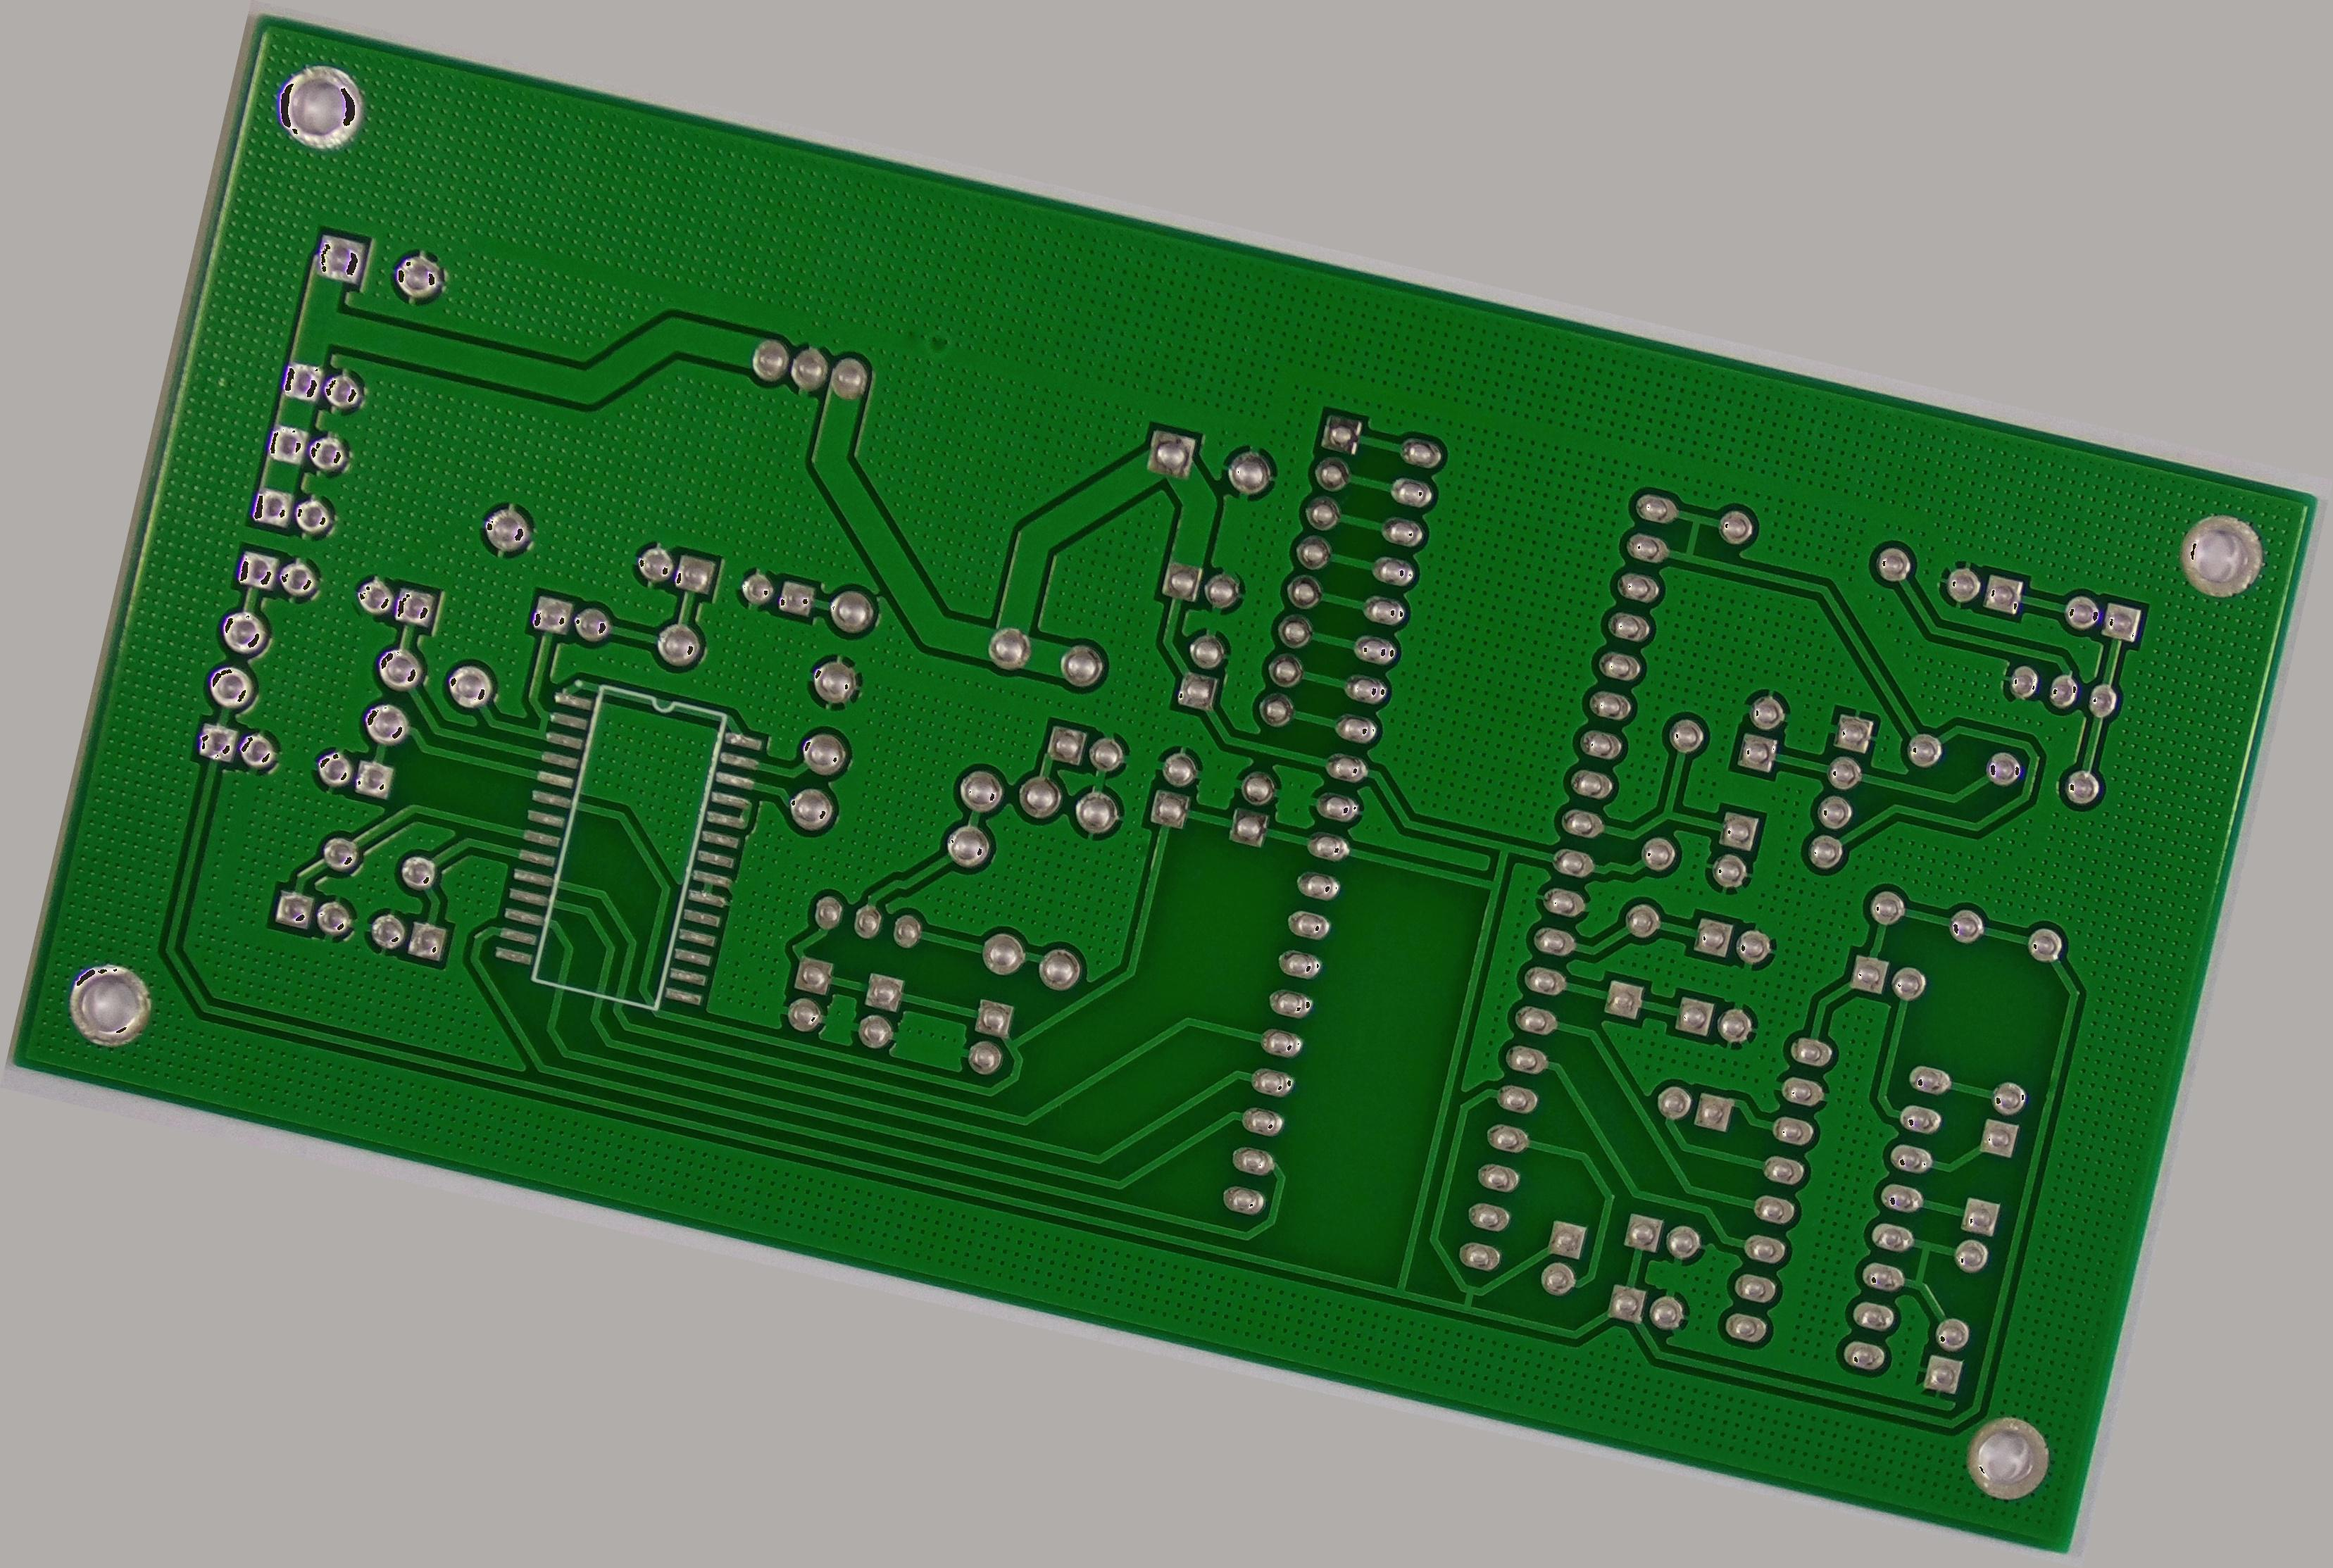short: (1888, 1220, 1964, 1311), (1437, 1267, 1498, 1327), (522, 698, 562, 742)
